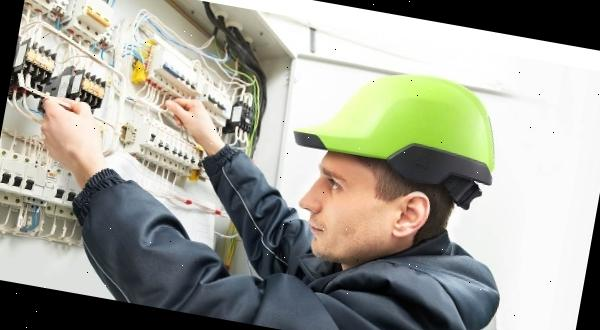helmet: (286, 52, 510, 196)
wear: (228, 244, 515, 330)
